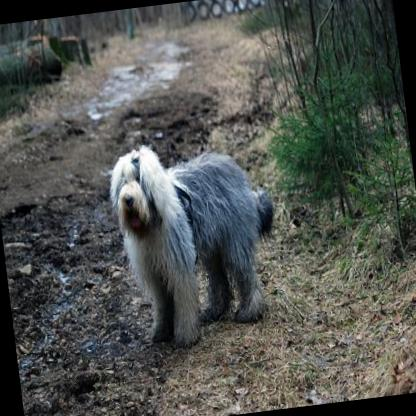Old_English_sheepdog: (102, 128, 286, 352)
